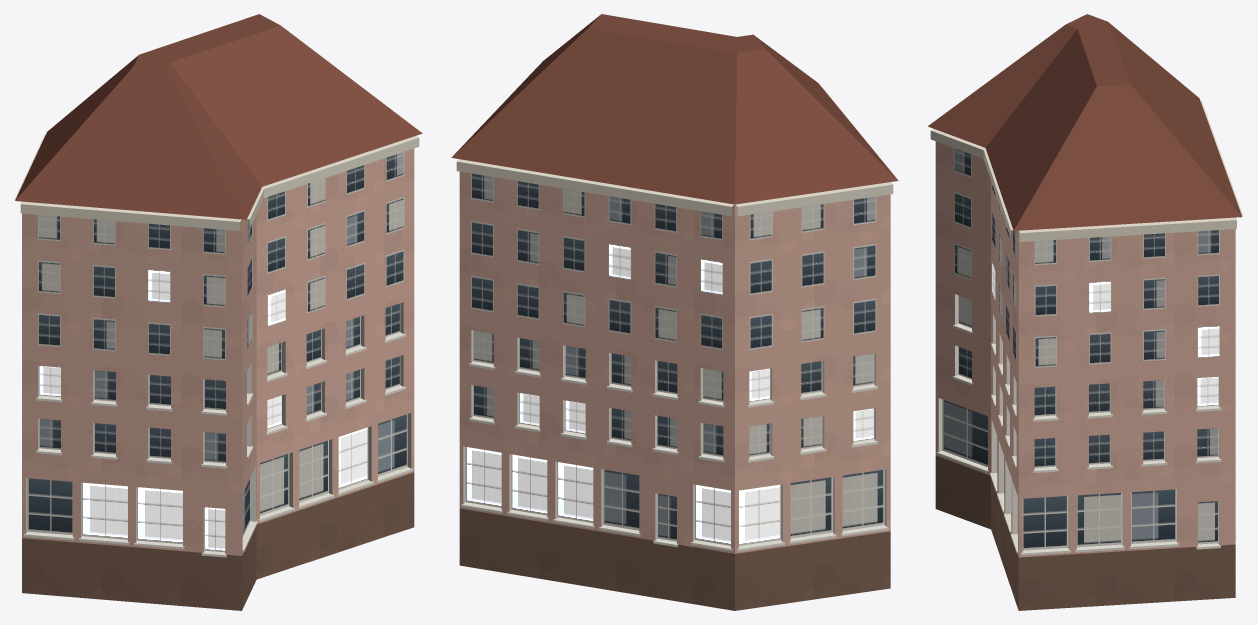
The model's file is z3c_al_s_pink.glb.
3 views of the same model, side by side, from view 1: azimuth 30°, elevation 25°; view 2: azimuth 150°, elevation 25°; view 3: azimuth 270°, elevation 25° (orthographic). The views are drawn at different scales.
Parts seen in each view (by area): view 1: z3c_al_s_pink; view 2: z3c_al_s_pink; view 3: z3c_al_s_pink.
Part boxes in pixels (left/top/right/bottom): z3c_al_s_pink: left=14, top=14, right=422, bottom=610; z3c_al_s_pink: left=451, top=14, right=898, bottom=610; z3c_al_s_pink: left=928, top=14, right=1243, bottom=610.
Size of the model in its own units: 21.49 by 27.02 by 16.1.
Materials: 3 (3 with a texture image).
